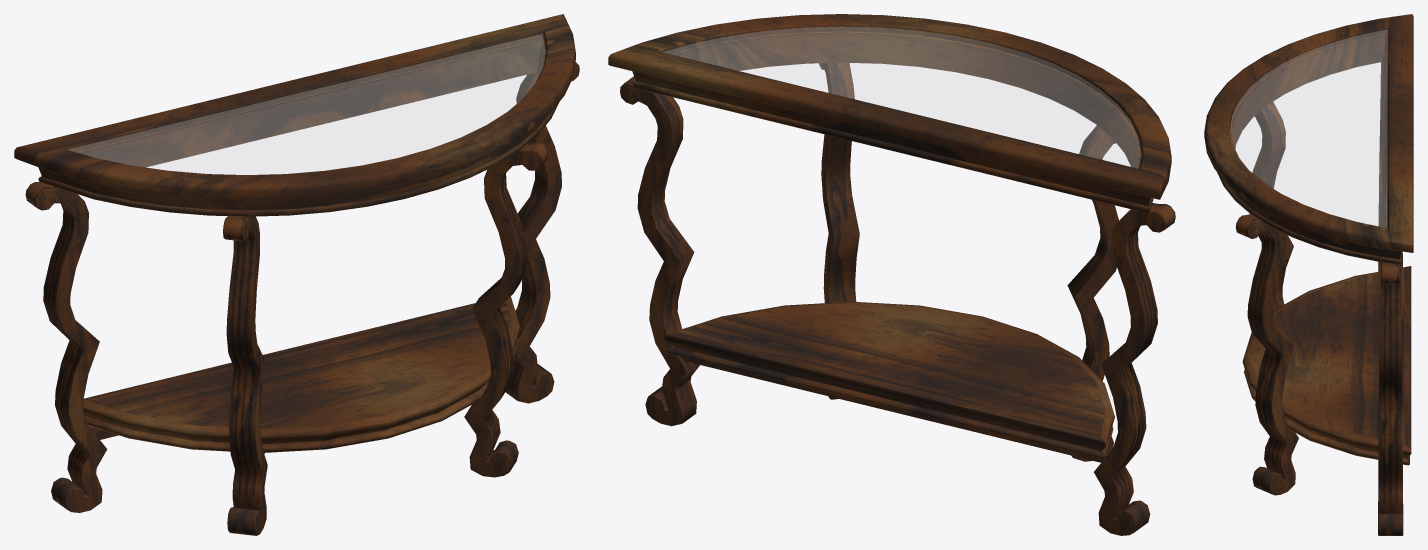
The model's file is side_console_glass.fbx.
3 renders of one model, left to right at view 1: azimuth 30°, elevation 25°; view 2: azimuth 150°, elevation 25°; view 3: azimuth 270°, elevation 25°, orthographic. The views are drawn at different scales.
Parts seen in each view (by area): view 1: table_set_side_console; view 2: table_set_side_console; view 3: table_set_side_console.
Part boxes in pixels (x1=…): table_set_side_console: x1=14, y1=14, x2=579, y2=535; table_set_side_console: x1=608, y1=14, x2=1175, y2=535; table_set_side_console: x1=1204, y1=14, x2=1413, y2=535.
Bounding box in the file's own units: 124 × 78.4 × 47.69.
